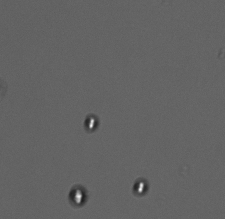Living Cell: (66, 184, 87, 208), (130, 176, 151, 196), (82, 113, 99, 132)
